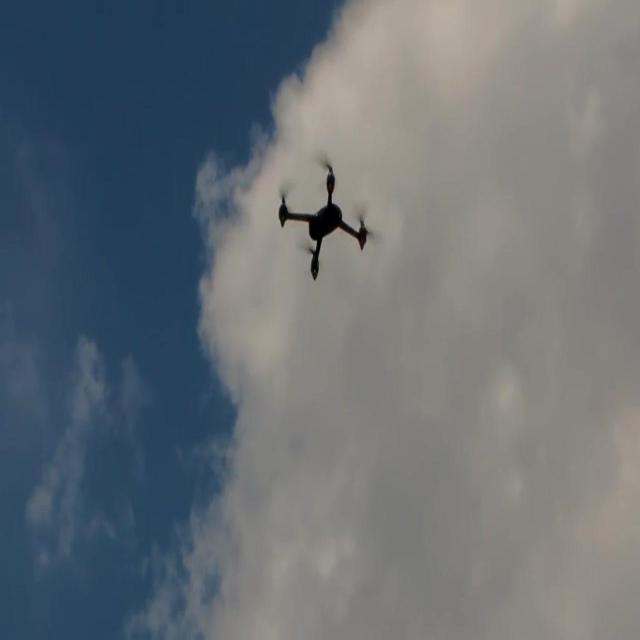drone: (278, 164, 370, 284)
